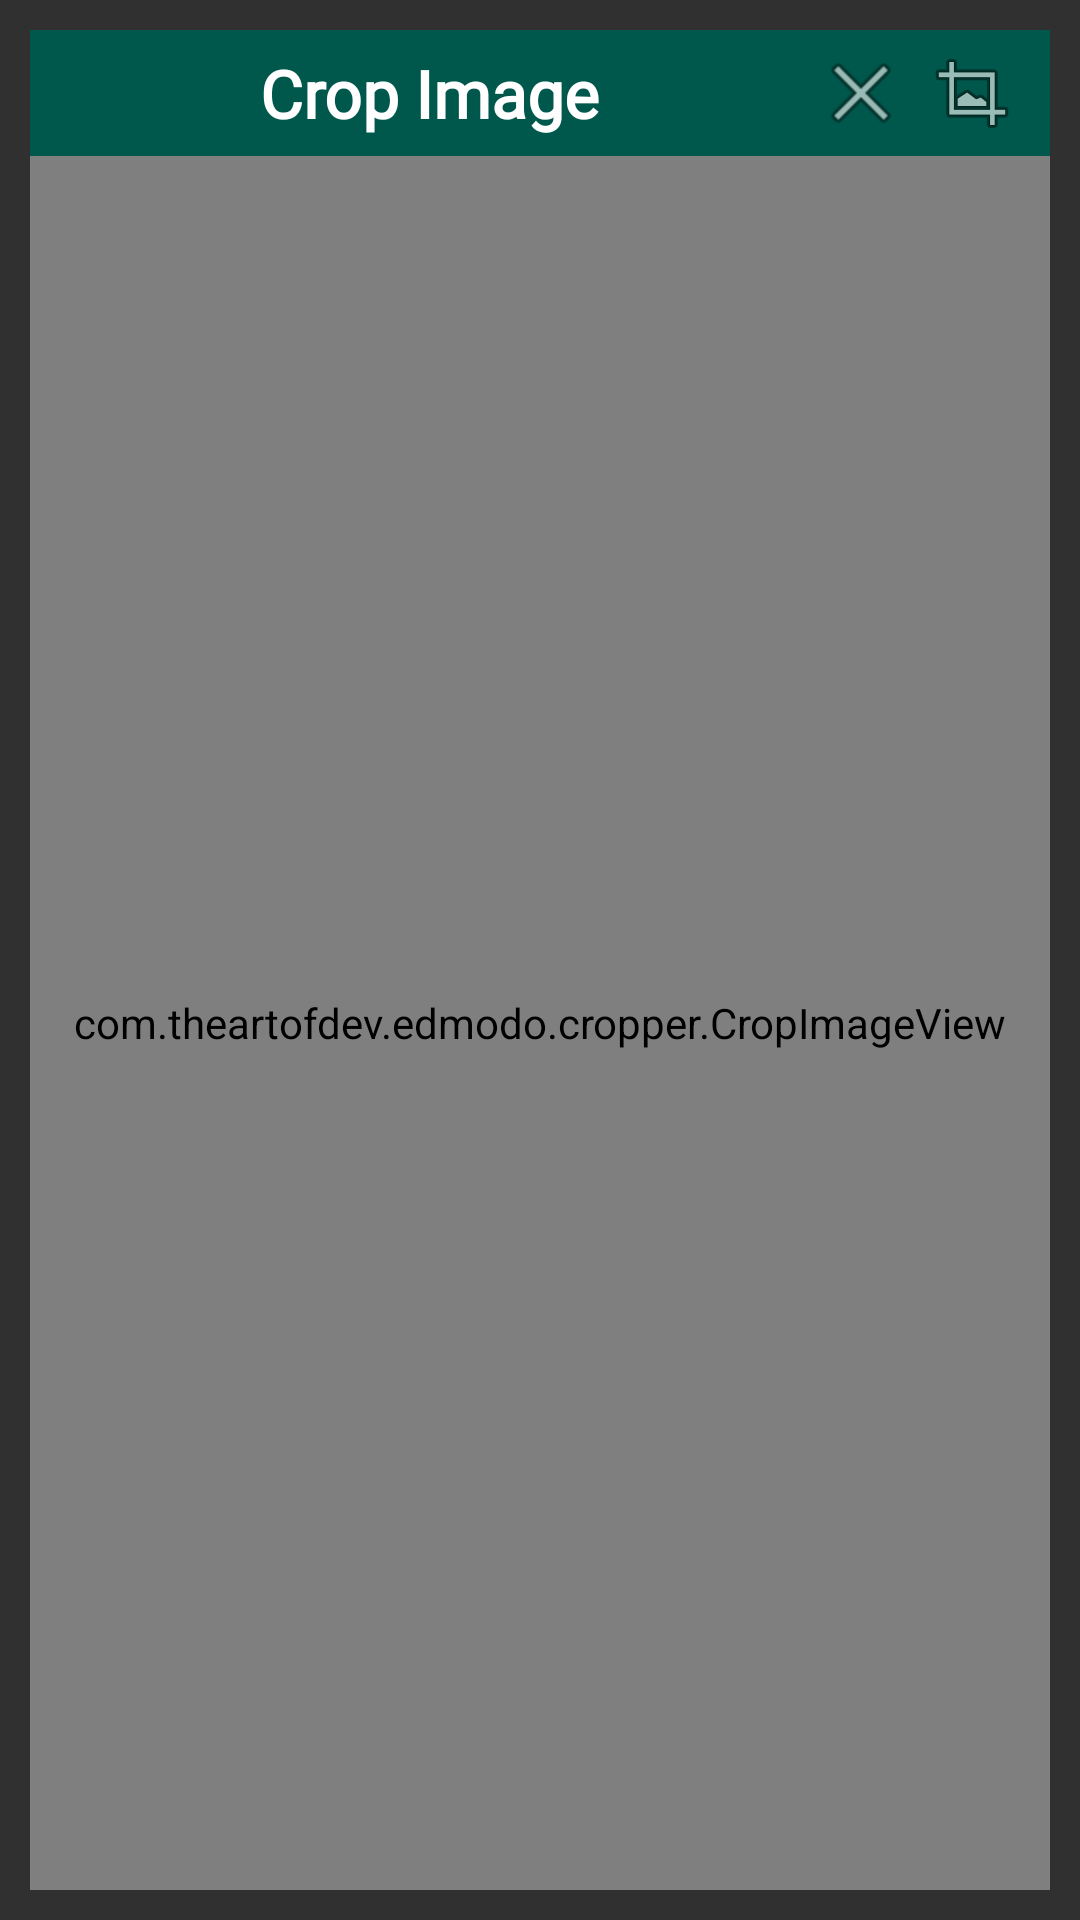

Screen size 1080 × 1920. Icon name, then its center in pixels as (x,y):
close clear cancel: (861,93)
